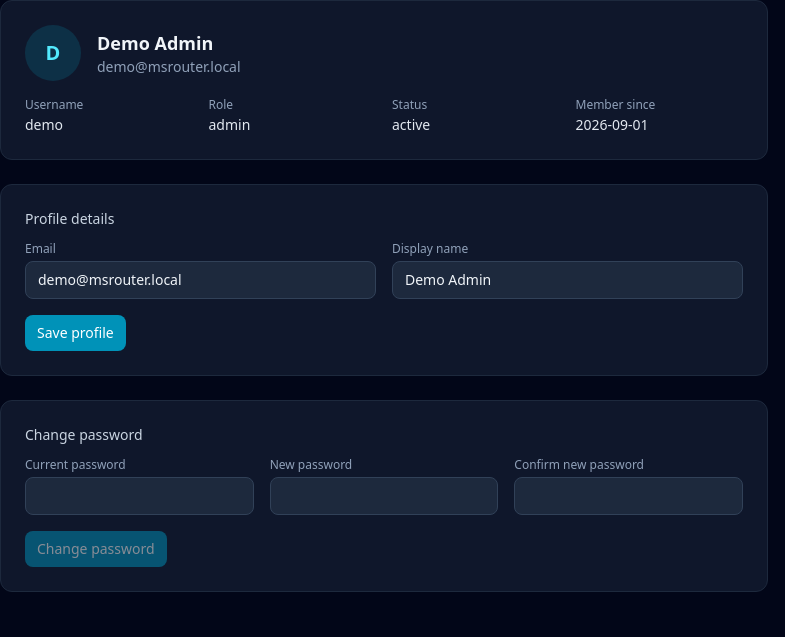
it: ProfilePage › updates email and refreshes the session
Replace the text in the field labelled "Email" with "new@msrouter.local": (200, 280) [25,261,376,299]
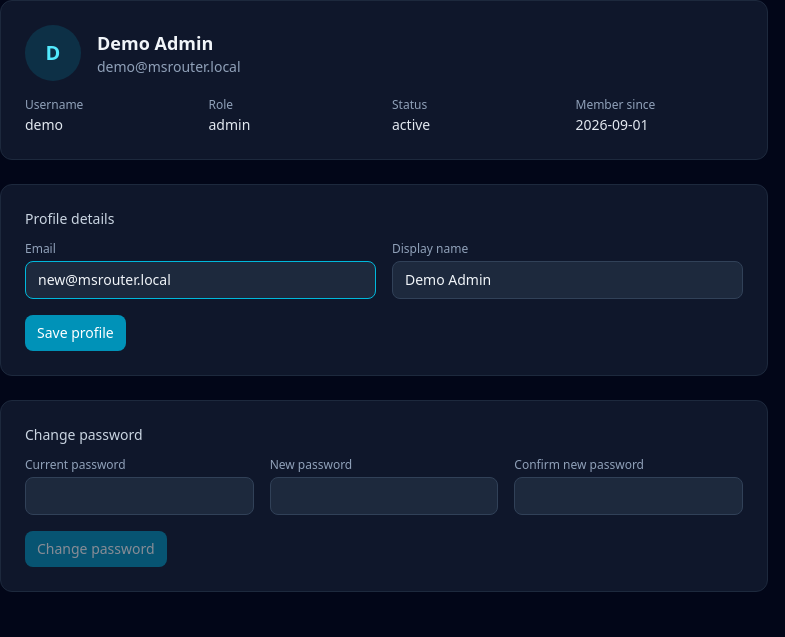
Click the button "Save profile": (75, 333) [25,315,126,351]
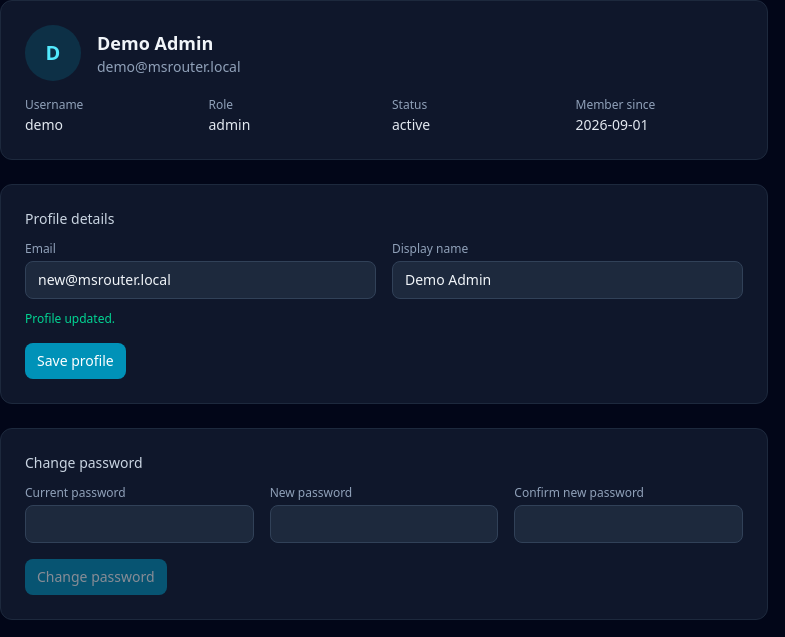
Expected: the text "Profile updated." is shown, [25,310,115,327]
